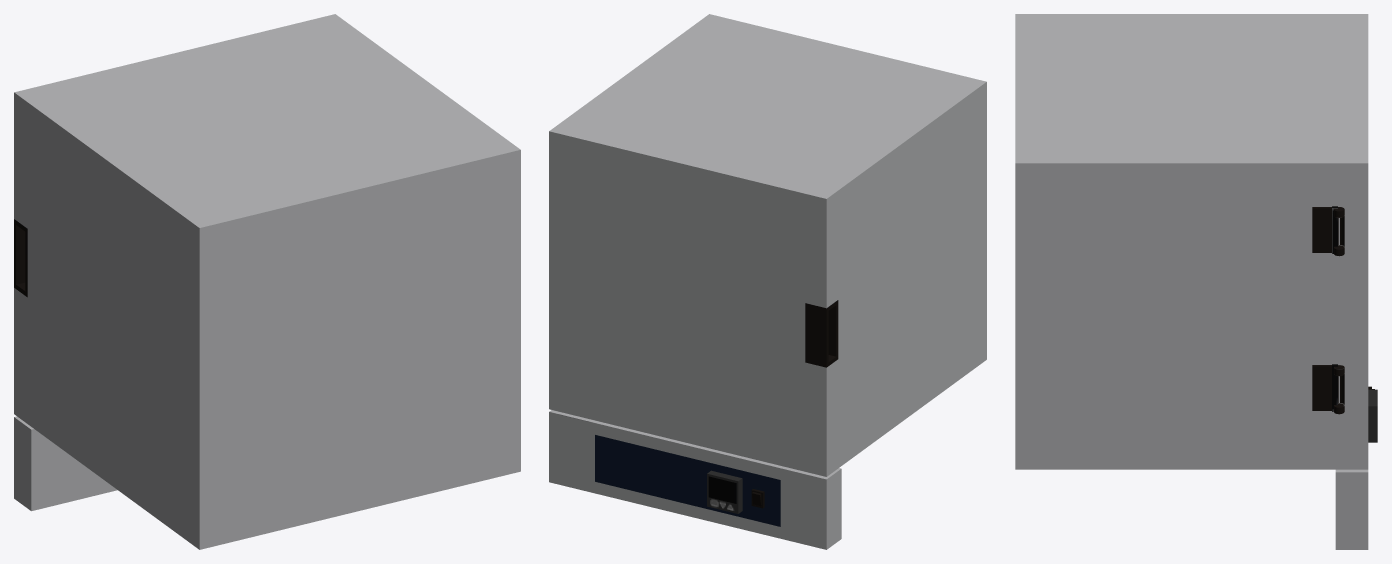
Rendered from oven.fbx.
3 views of the same model, side by side, from view 1: azimuth 30°, elevation 25°; view 2: azimuth 150°, elevation 25°; view 3: azimuth 270°, elevation 25° (orthographic). The views are drawn at different scales.
Parts seen in each view (by area): view 1: Oven, Door, Slice.002, Slice.003; view 2: Door, Oven, Slice.002, Slice.004, Slice.003, Slice.005, Slice.001; view 3: Oven, Door, Slice.002, Hinge, Hinge.001, Slice.005, Cutter.011.
Part boxes in pixels (x1,y1,x2,y2): Oven: (32, 27, 520, 549); Door: (14, 14, 352, 426); Slice.002: (14, 416, 117, 511); Slice.003: (14, 219, 27, 297); Door: (549, 120, 842, 476); Oven: (565, 14, 986, 465); Slice.002: (549, 410, 841, 549); Slice.004: (595, 435, 780, 526); Slice.003: (805, 300, 838, 367); Slice.005: (707, 470, 742, 513); Slice.001: (708, 476, 736, 503); Oven: (1015, 14, 1333, 469); Door: (1333, 14, 1368, 469); Slice.002: (1335, 469, 1368, 549); Hinge: (1312, 207, 1344, 256); Hinge.001: (1312, 365, 1344, 414); Slice.005: (1368, 389, 1377, 442); Cutter.011: (1332, 206, 1337, 411).
Bounding box in the file's own units: 51.47 × 60.43 × 51.3.
